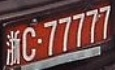C: (23, 27, 36, 61)
